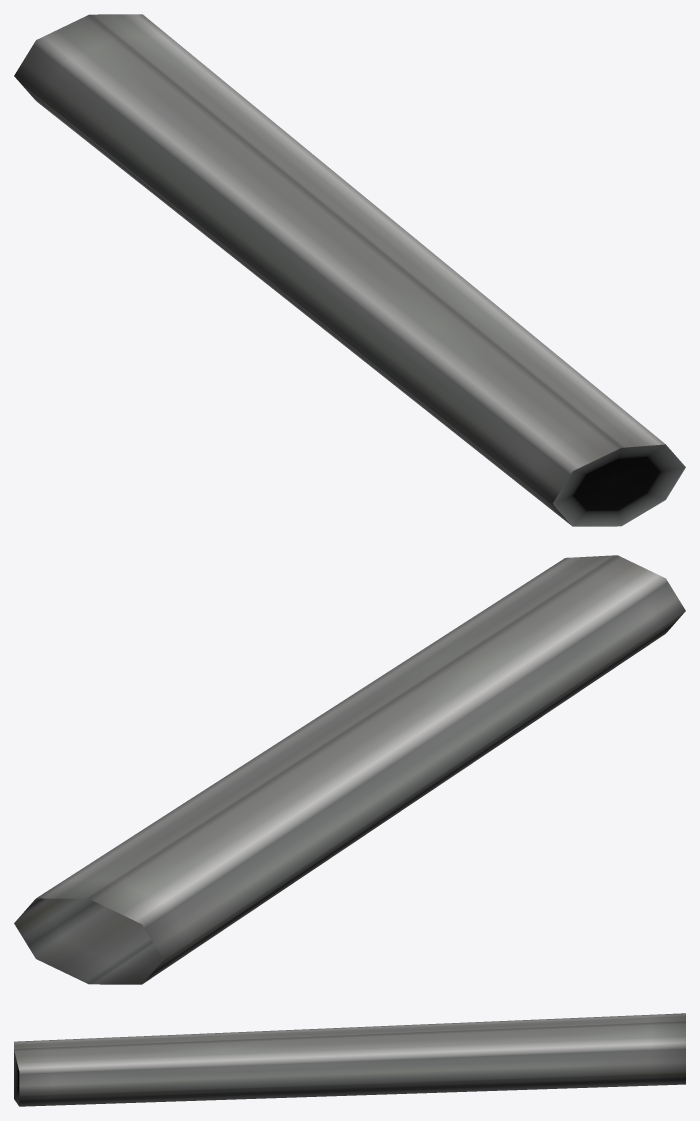
The model's file is exh_lr_t1.glb.
3 renders of one model, top to bottom at view 1: azimuth 30°, elevation 25°; view 2: azimuth 150°, elevation 25°; view 3: azimuth 270°, elevation 25°, orthographic. The views are drawn at different scales.
Parts seen in each view (by area): view 1: exh_lr_t1; view 2: exh_lr_t1; view 3: exh_lr_t1.
Part boxes in pixels (bbox=[...]): exh_lr_t1: bbox=[14, 14, 685, 526]; exh_lr_t1: bbox=[14, 555, 685, 984]; exh_lr_t1: bbox=[14, 1013, 685, 1106].
Size of the model in its own units: 0.2079 by 0.1614 by 1.27.
1 material, 1 textured.
